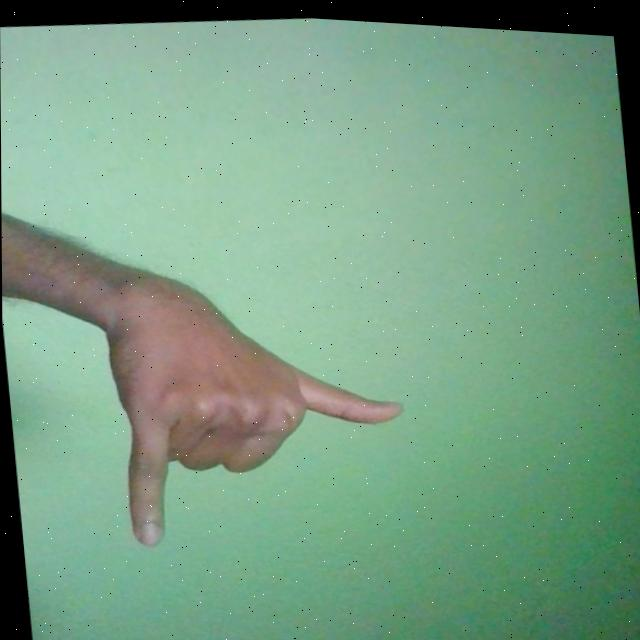Call Me: (98, 241, 413, 559)
